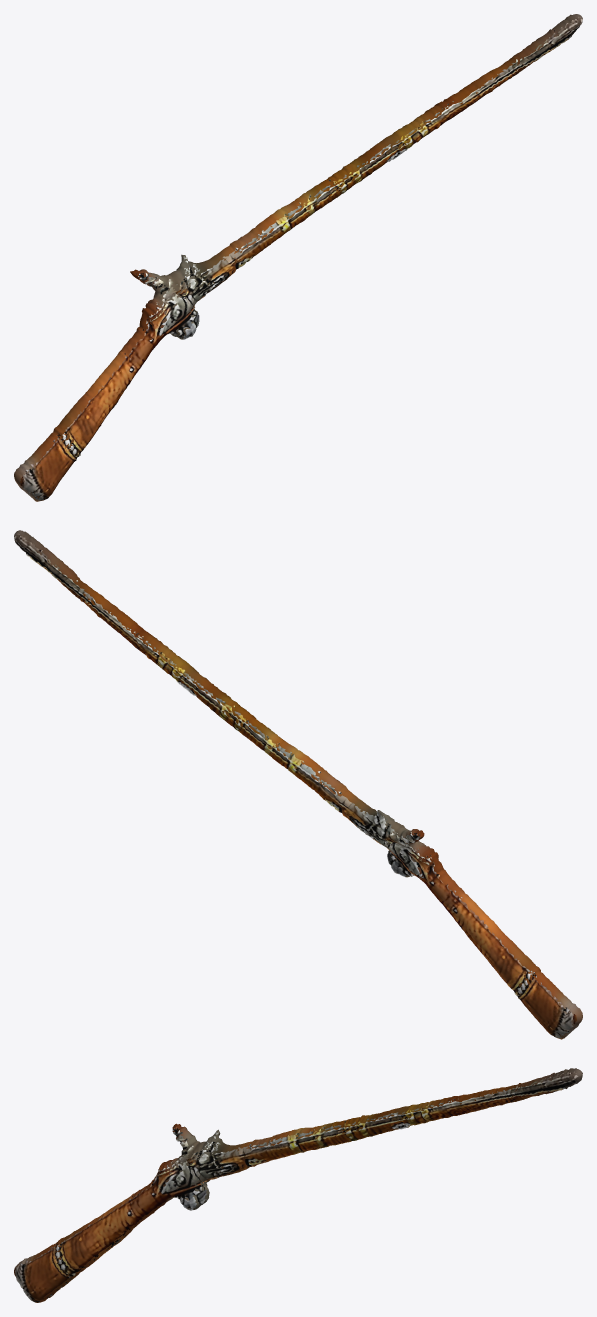
The model's file is kfl-2212.glb.
The picture shows the model from 3 angles, top to bottom: view 1: azimuth 30°, elevation 25°; view 2: azimuth 150°, elevation 25°; view 3: azimuth 330°, elevation 25°; orthographic projection. The views are drawn at different scales.
Visible parts, largest first — view 1: kfl-2212; view 2: kfl-2212; view 3: kfl-2212.
Part boxes in pixels (x1,y1,x2,y2): kfl-2212: [14, 14, 582, 501]; kfl-2212: [14, 530, 582, 1039]; kfl-2212: [14, 1068, 582, 1302].
Size of the model in its own units: 0.9872 by 0.6091 by 0.0999.
Materials: 4 (4 with a texture image).
